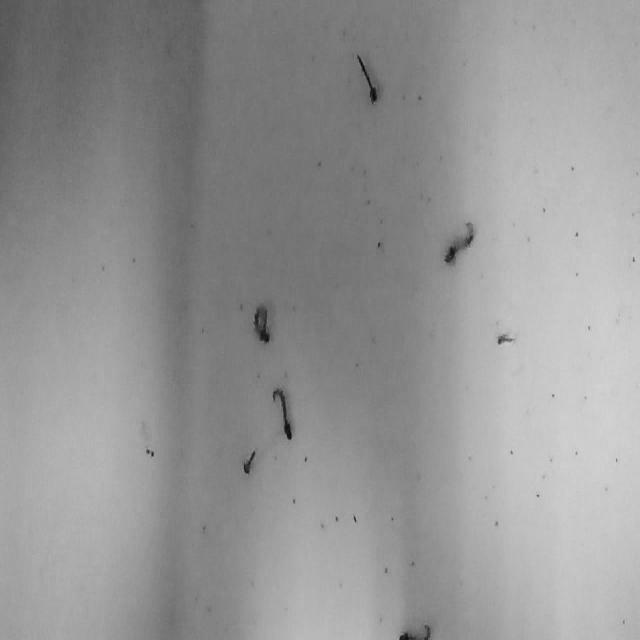larvas: (443, 220, 475, 266), (272, 384, 294, 438), (356, 52, 378, 106), (252, 303, 272, 344), (399, 624, 432, 639), (243, 448, 256, 476), (497, 332, 517, 344)
